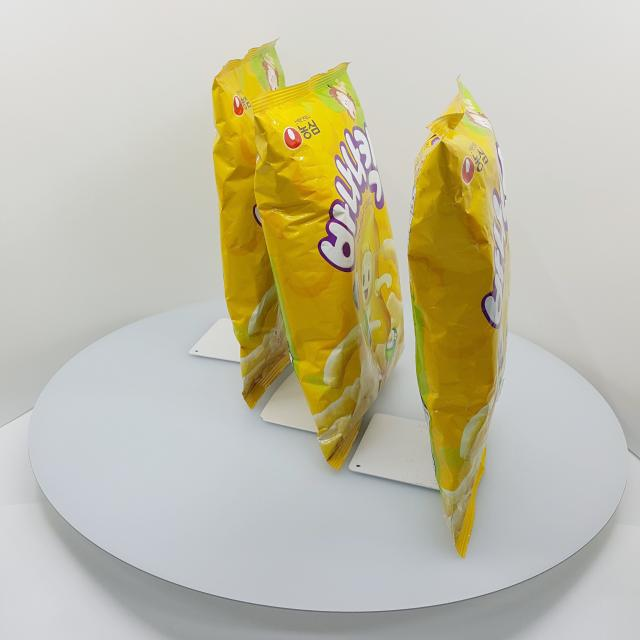-75G: (252, 62, 406, 471), (408, 75, 512, 559), (213, 38, 301, 410)
